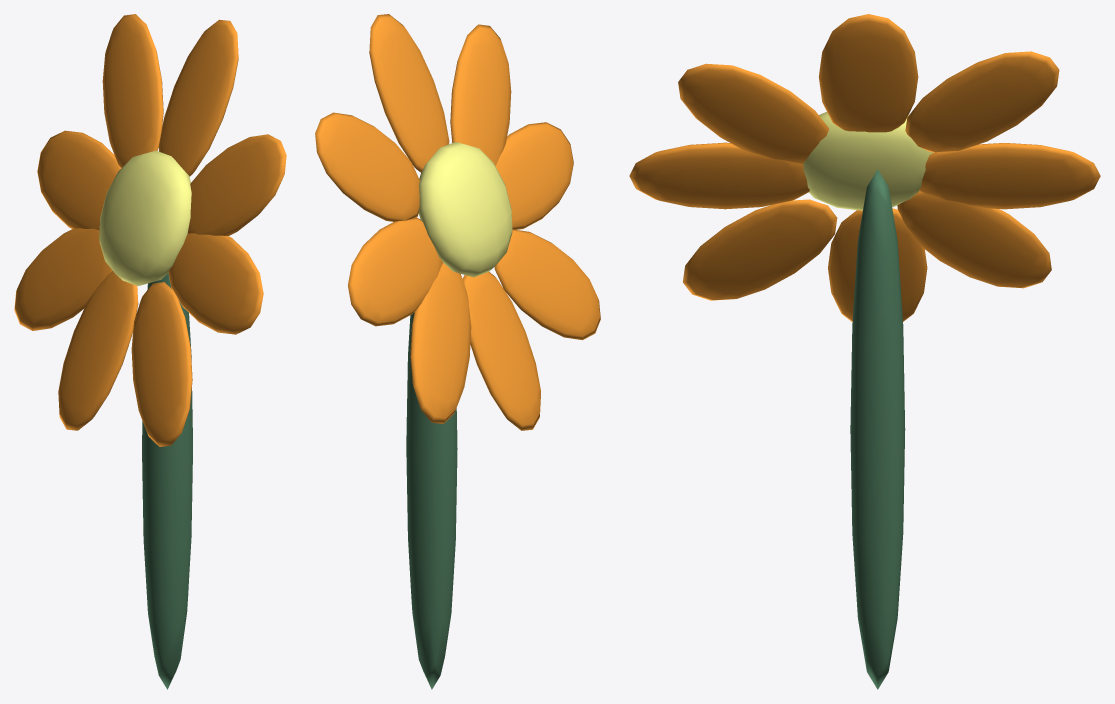
File: flower2.fbx
3 renders of one model, left to right at view 1: azimuth 30°, elevation 25°; view 2: azimuth 150°, elevation 25°; view 3: azimuth 270°, elevation 25°, orthographic. The views are drawn at different scales.
Visible parts, largest first — view 1: Flower.001; view 2: Flower.001; view 3: Flower.001.
Boxes of the visible parts, bbox=[...] form: Flower.001: bbox=[14, 14, 286, 689]; Flower.001: bbox=[315, 14, 600, 689]; Flower.001: bbox=[629, 14, 1100, 689].
Bounding box in the file's own units: 32.12 × 126 × 75.9.
